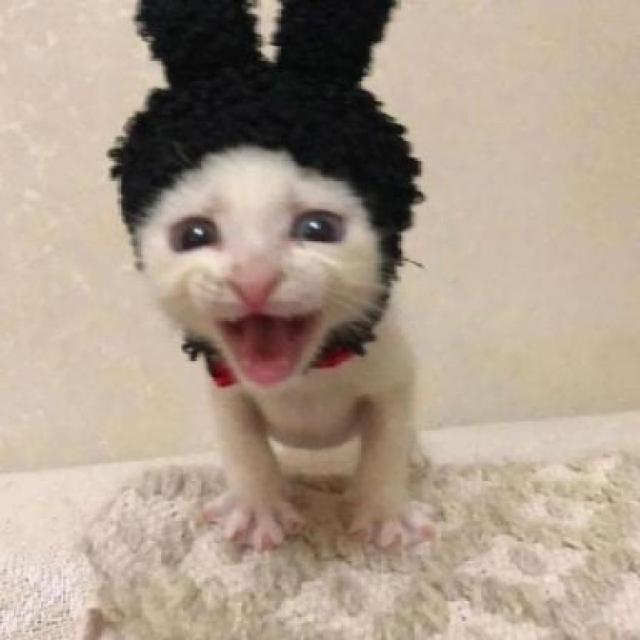cat: (110, 113, 481, 565)
